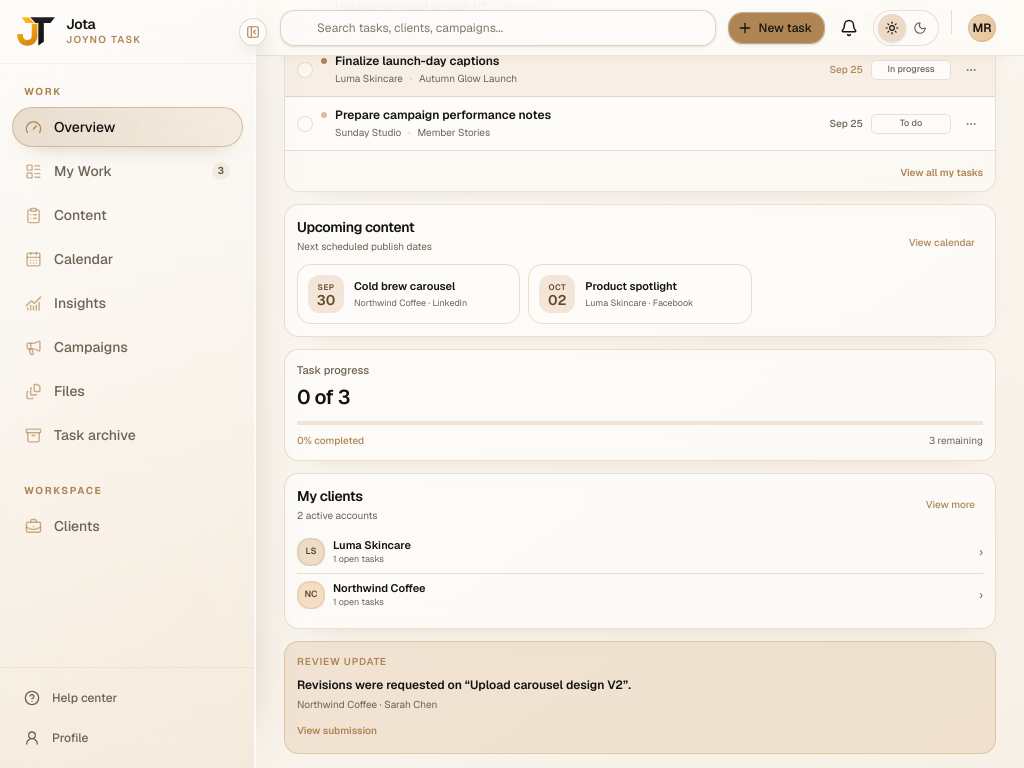
Test: Account Manager dashboard › opens calendar and task details without leaving the overview
(page scrolled)
Click the button "View submission": [337, 730] box [297,723,377,738]
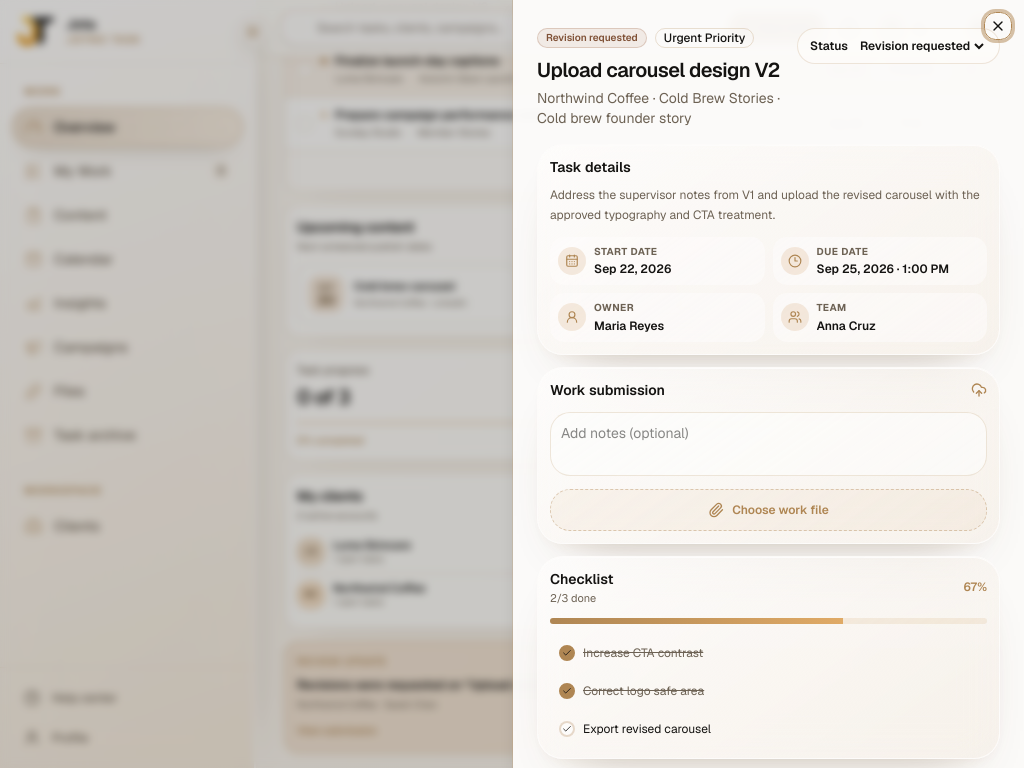
Expected: the dialog is shown, [512,0,1023,767]
